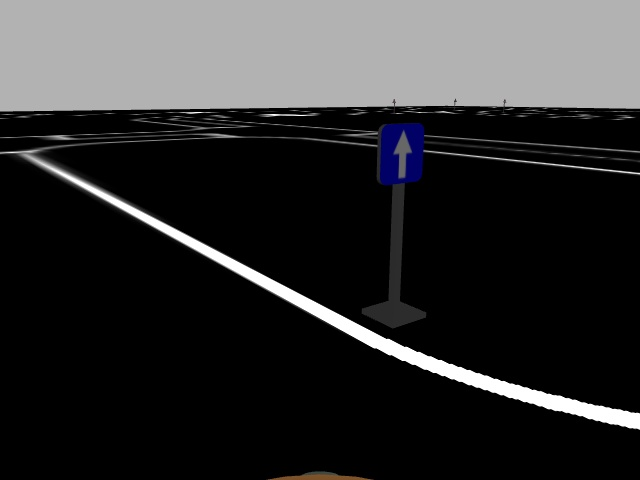oneway: (377, 120, 425, 189)
